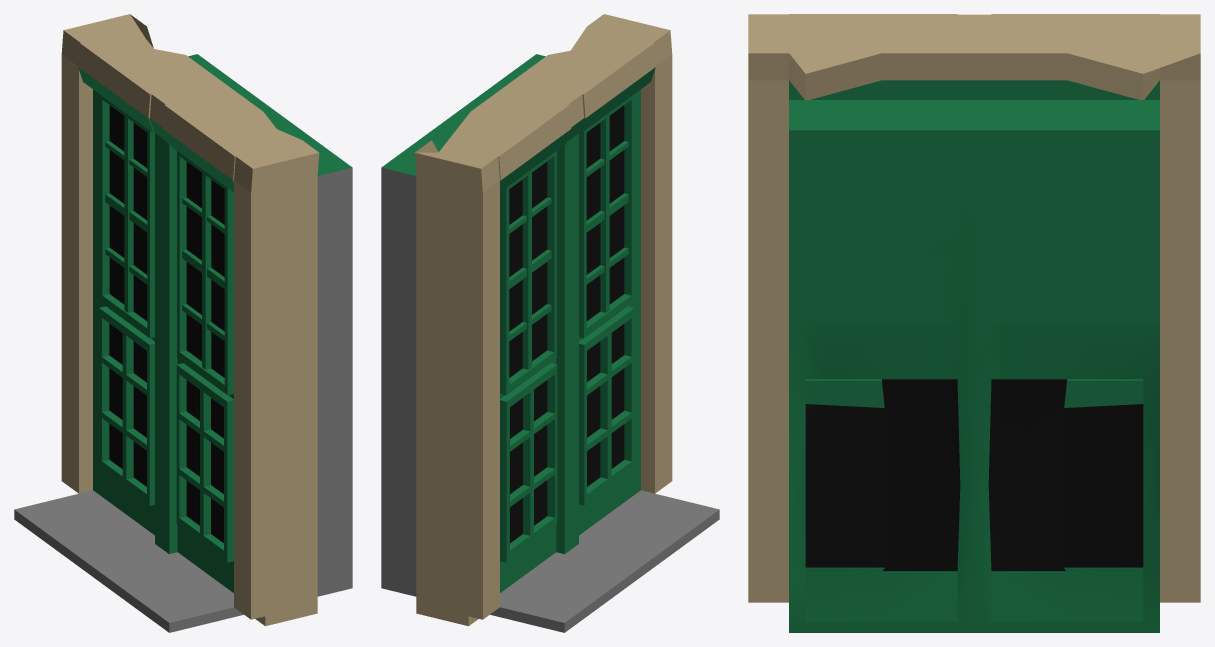
Rendered from BalconyDoubleDoor.fbx.
3 views of the same model, side by side, from view 1: azimuth 30°, elevation 25°; view 2: azimuth 150°, elevation 25°; view 3: azimuth 270°, elevation 25° (orthographic). The views are drawn at different scales.
Parts seen in each view (by area): view 1: DoubleBalconyDoor; view 2: DoubleBalconyDoor; view 3: DoubleBalconyDoor.
Boxes of the visible parts, bbox=[...] form: DoubleBalconyDoor: bbox=[14, 14, 352, 632]; DoubleBalconyDoor: bbox=[381, 14, 719, 632]; DoubleBalconyDoor: bbox=[748, 14, 1200, 632].
Size of the model in its own units: 34.9 by 82.87 by 61.78.
